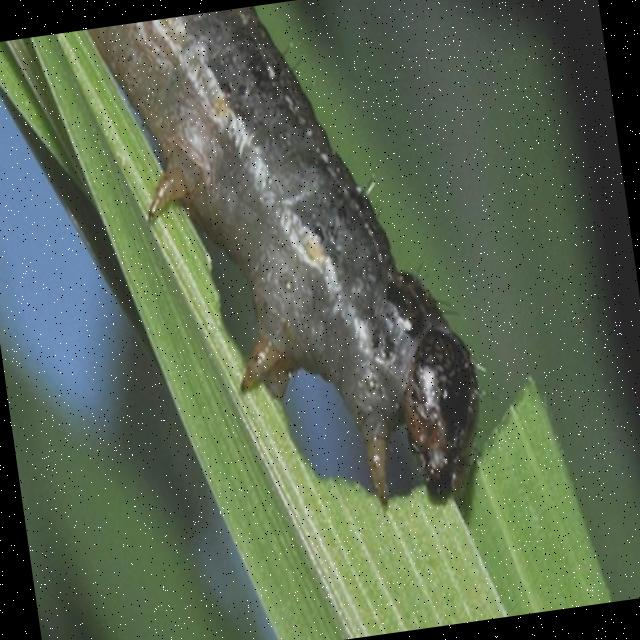worm: (79, 1, 505, 547), (380, 260, 505, 509)
